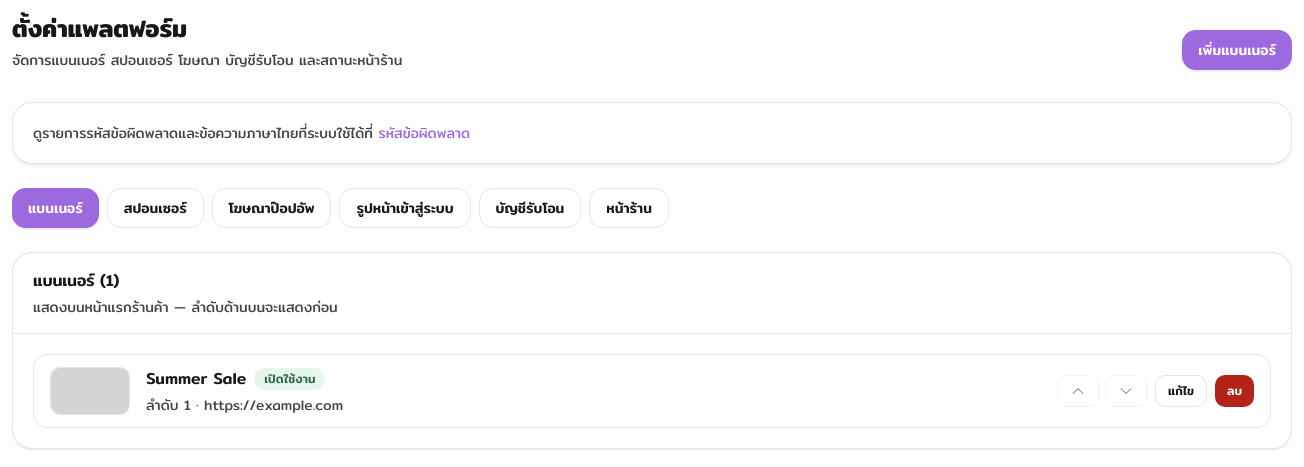
Test: AdminPlatformSettingsPage › switches tab panels and updates the primary action label
What coordinates should you click on to do the following:
click the tab "สปอนเซอร์"
I would click on:
 (155, 208)
Its box is [107, 188, 204, 228].
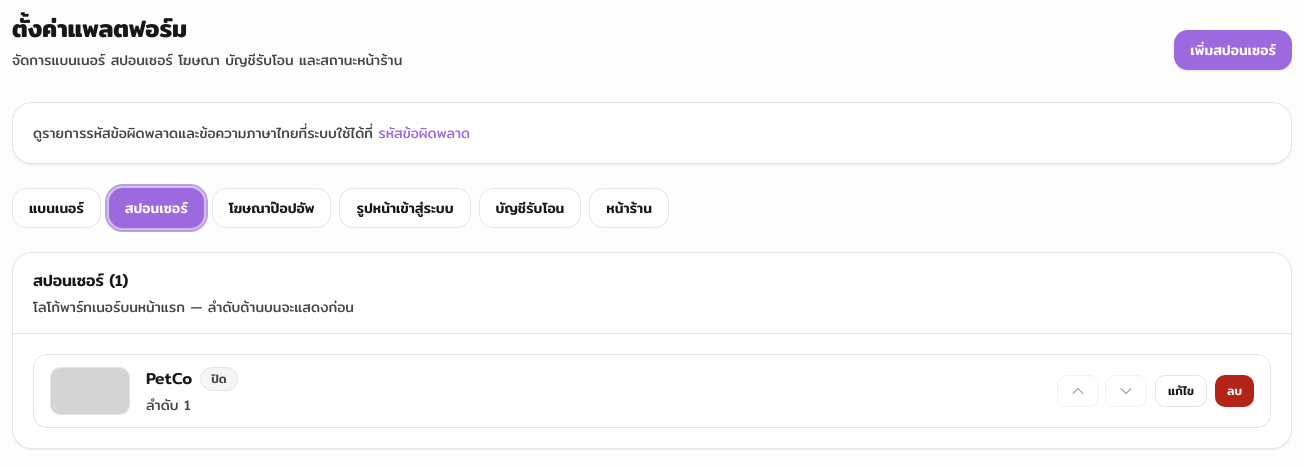
Expected: the heading "สปอนเซอร์ (1)" is shown, [33, 268, 128, 293]
Expected: the text "PetCo" is shown, [146, 367, 192, 391]
Expected: the button "เพิ่มสปอนเซอร์" is shown, [1174, 30, 1292, 70]
What coordinates should you click on to do the following:
click the tab "โฆษณาป๊อปอัพ"
I would click on:
 (272, 208)
Its box is [212, 188, 332, 228].
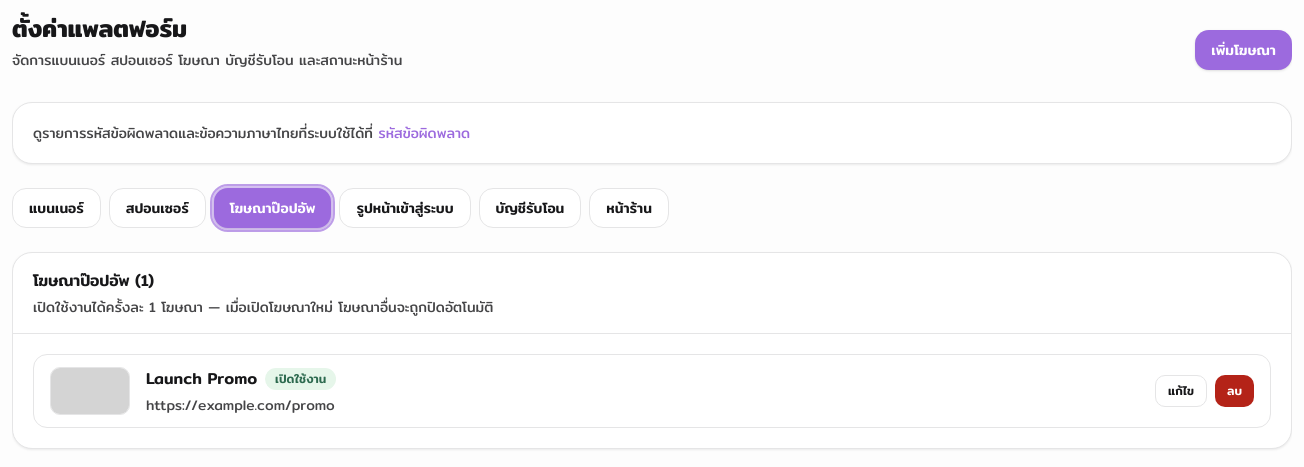
Expected: the heading "โฆษณาป๊อปอัพ (1)" is shown, [33, 268, 154, 293]
Expected: the text "Launch Promo" is shown, [146, 367, 257, 391]
Expected: the text "เปิดใช้งานได้ครั้งละ 1 โฆษณา — เมื่อเปิดโฆษณาใหม่ โฆษณาอื่นจะถูกปิดอัตโนมัติ" is shown, [33, 296, 493, 318]
